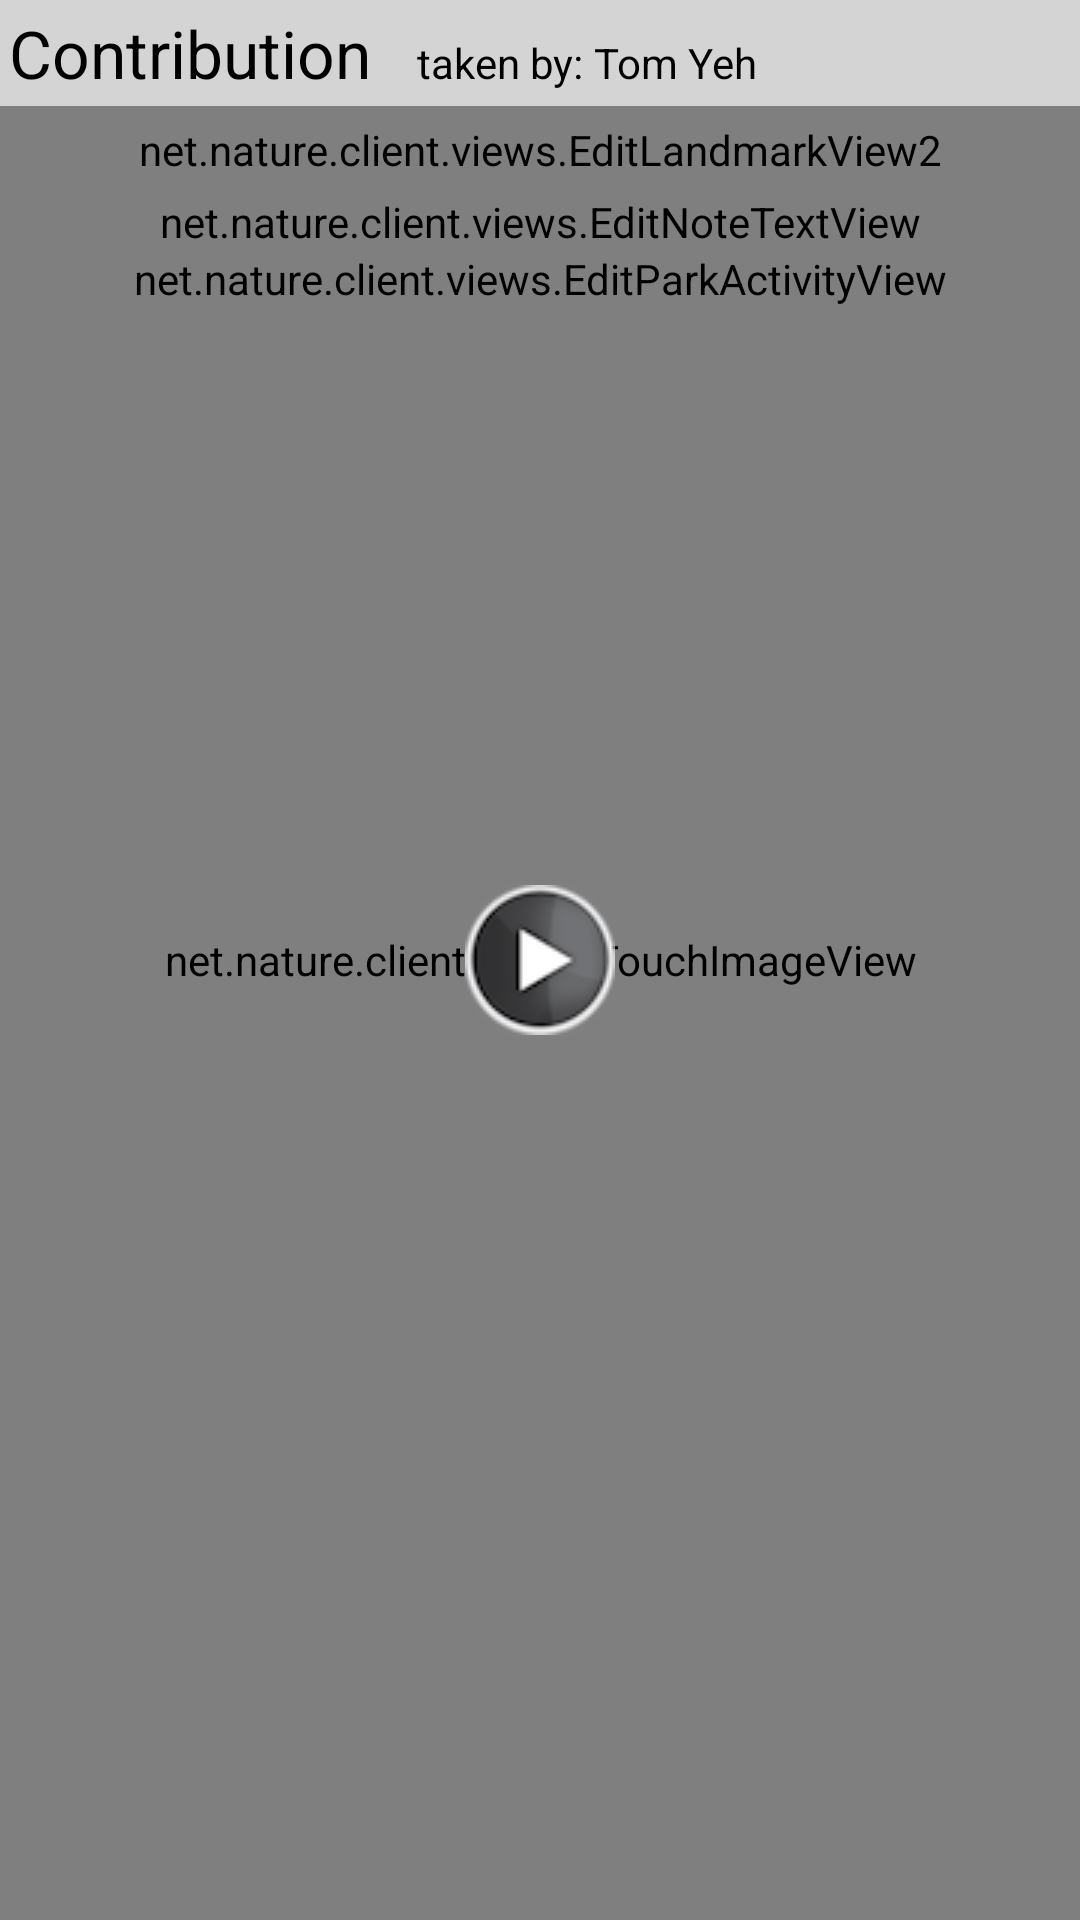

Point at icon controls on the screen. Image size 1080px×1920px, points as [x,y].
playbutton: [540,960]
